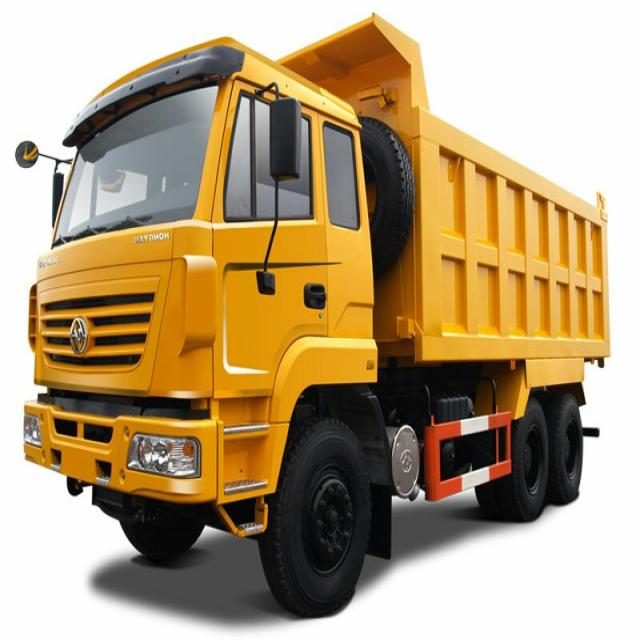truck: (13, 16, 610, 617)
